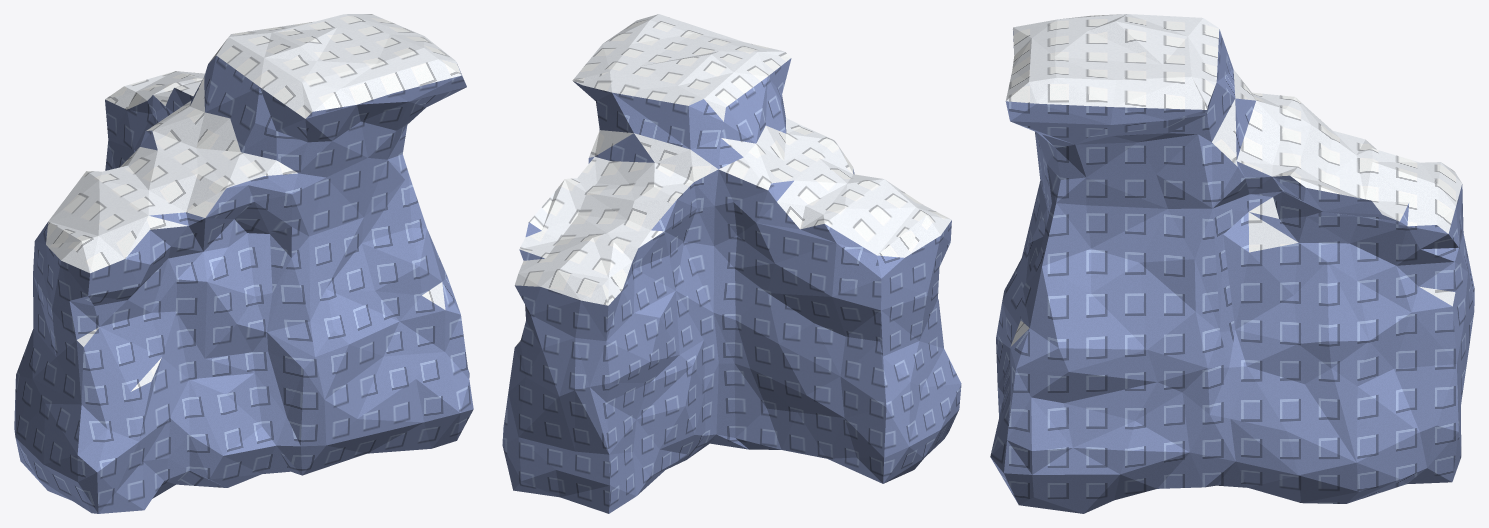
Rendered from IceCornerRock.glb.
The picture shows the model from 3 angles, left to right: view 1: azimuth 30°, elevation 25°; view 2: azimuth 150°, elevation 25°; view 3: azimuth 270°, elevation 25°; orthographic projection. The views are drawn at different scales.
Visible parts, largest first — view 1: IceCornerRock_Rock, IceCornerRock_Top; view 2: IceCornerRock_Rock, IceCornerRock_Top; view 3: IceCornerRock_Rock, IceCornerRock_Top.
Part boxes in pixels (bbox=[...]): IceCornerRock_Rock: bbox=[14, 55, 473, 513]; IceCornerRock_Top: bbox=[46, 14, 461, 391]; IceCornerRock_Rock: bbox=[502, 58, 961, 513]; IceCornerRock_Top: bbox=[515, 14, 951, 345]; IceCornerRock_Rock: bbox=[990, 29, 1474, 513]; IceCornerRock_Top: bbox=[1006, 14, 1462, 346].
Size of the model in its own units: 12.58 by 12.56 by 12.51.
Materials: 2 (2 with a texture image).
